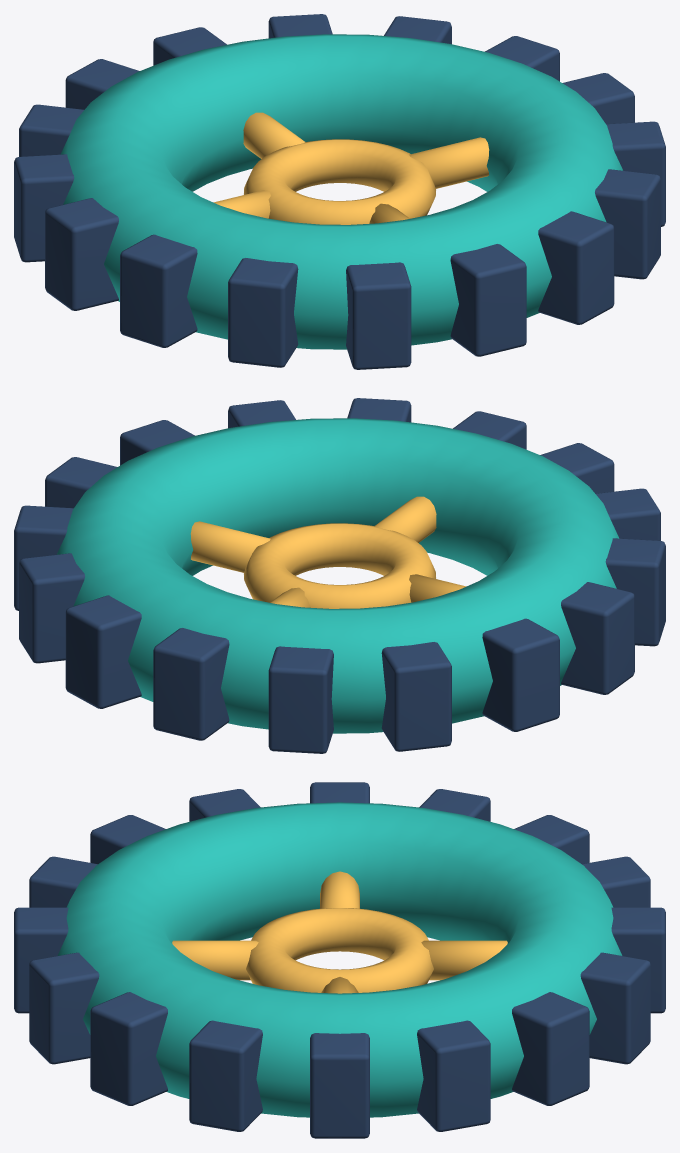
File: spur-gear-lite.glb
The picture shows the model from 3 angles, top to bottom: view 1: azimuth 30°, elevation 25°; view 2: azimuth 150°, elevation 25°; view 3: azimuth 270°, elevation 25°; orthographic projection.
Visible parts, largest first — view 1: Gear rim; view 2: Gear rim; view 3: Gear rim.
Part boxes in pixels (x1,y1,x2,y2): Gear rim: (14, 14, 665, 369); Gear rim: (14, 398, 665, 753); Gear rim: (14, 782, 665, 1138).
Size of the model in its own units: 1.96 by 0.4 by 1.96.
